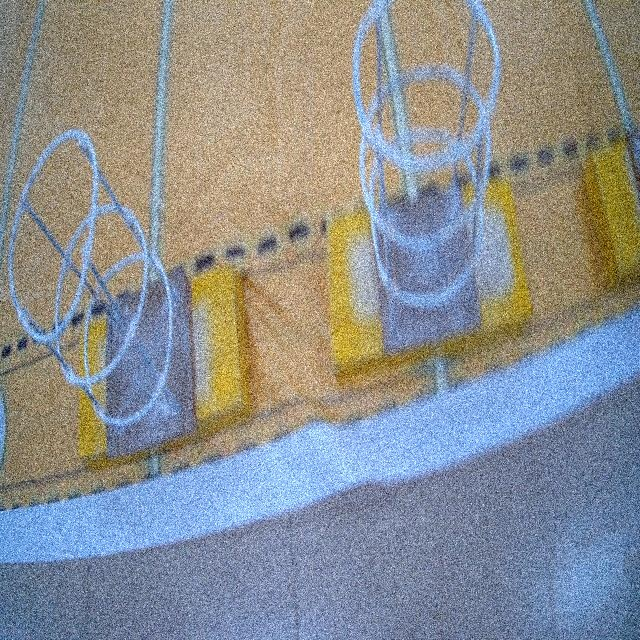silo: (0, 129, 197, 443), (348, 2, 503, 344)
